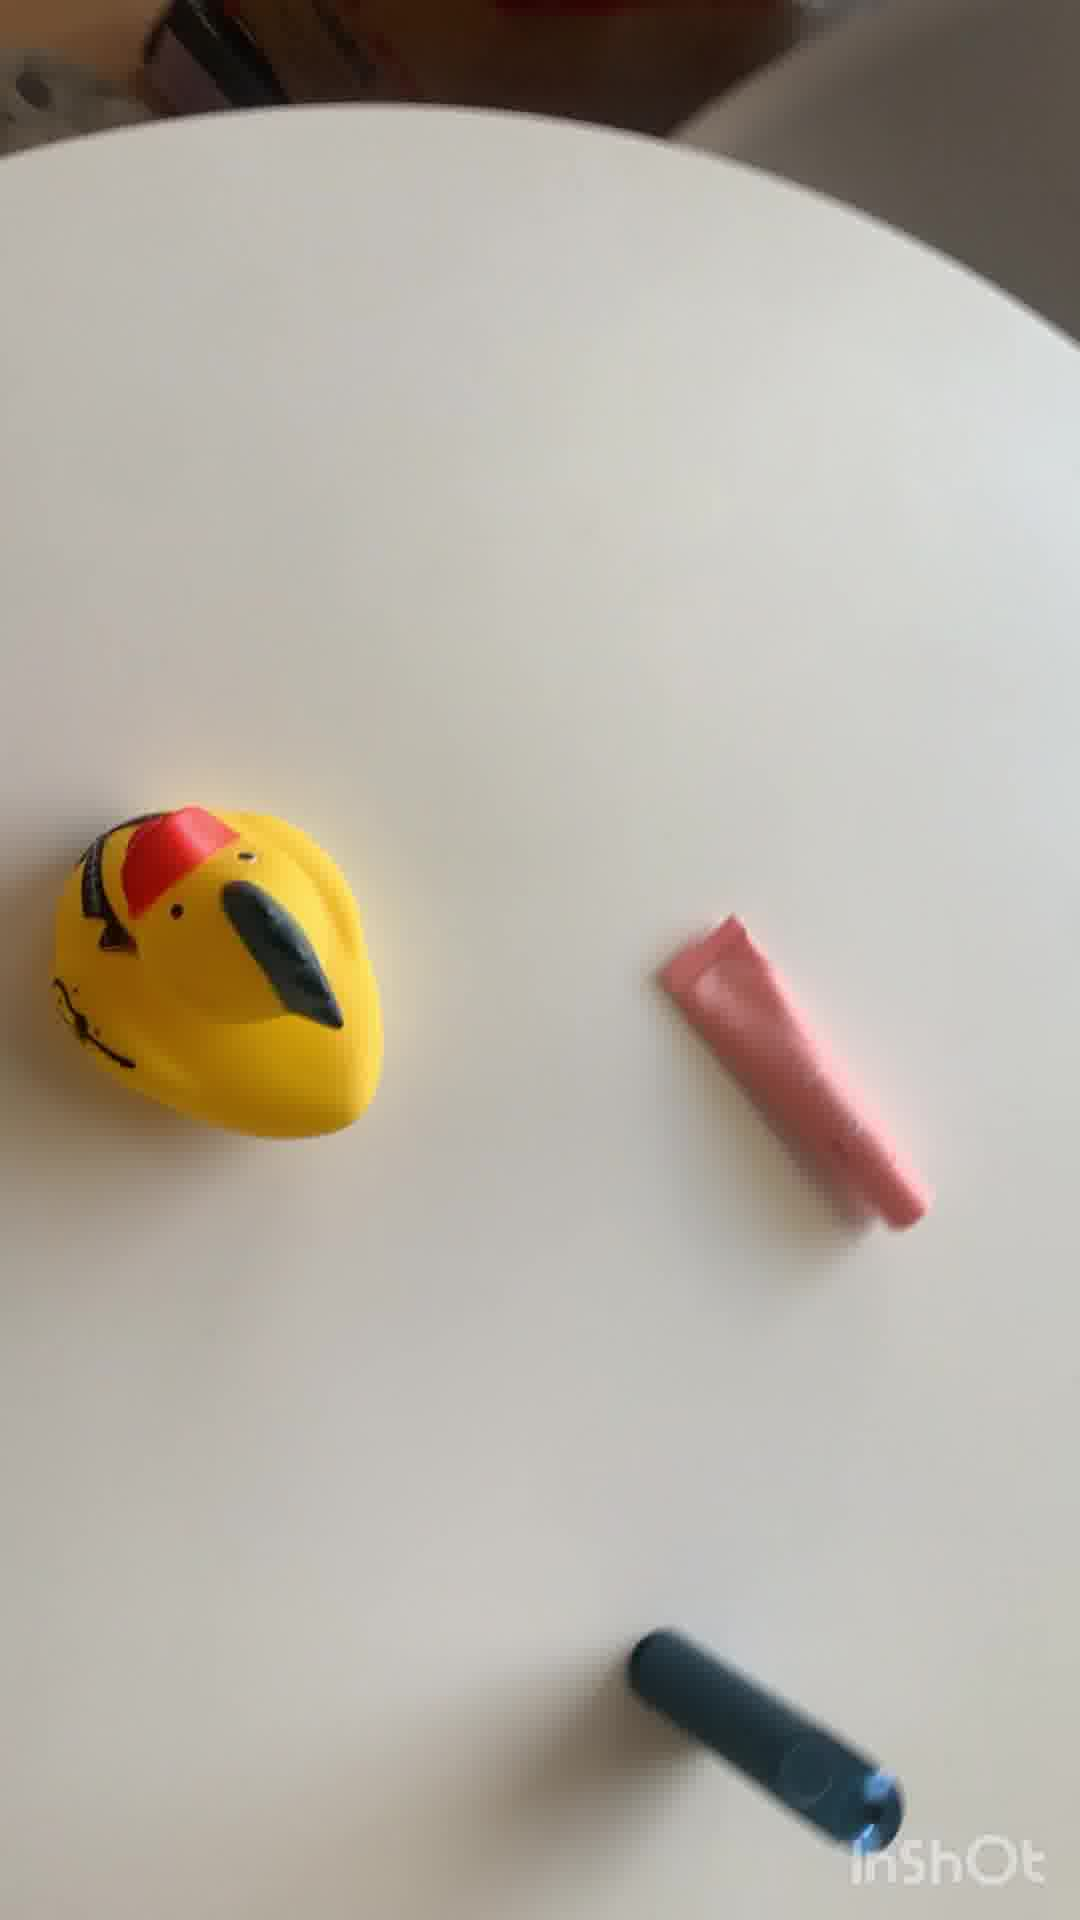duck: (41, 804, 407, 1141)
glo: (632, 1644, 913, 1859)
lip balm: (644, 918, 942, 1232)
